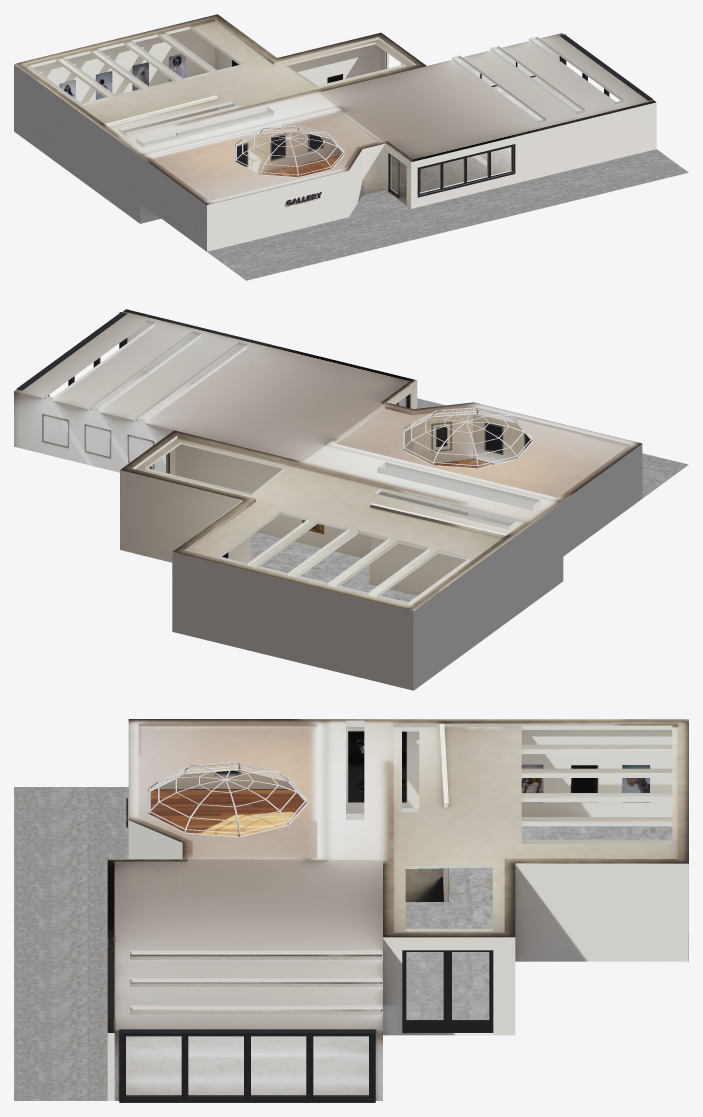
The model's file is art-gallery3.glb.
The picture shows the model from 3 angles, top to bottom: view 1: azimuth 30°, elevation 25°; view 2: azimuth 150°, elevation 25°; view 3: azimuth 270°, elevation 25°; orthographic projection. The views are drawn at different scales.
Visible parts, largest first — view 1: Paredes, ParedesPrincipais, Teto.001, Chao_fora, Janelas_entrada, Chao_entrada, Todos os quadros, Sphere.002, Chao_madeira, Janelas, Porta_entrada; view 2: Paredes, Teto.001, ParedesPrincipais, Chao_inferior, Sphere.002, Chao_fora, Todos os quadros, Janelas, Chao_entrada; view 3: Teto.001, ParedesPrincipais, Paredes, Chao_fora, Janelas, Chao_entrada, Chao_inferior, Janelas_andar_inferior, Chao_madeira, Sphere.002, Todos os quadros.
Part boxes in pixels (x1,y1,x2,y2): Paredes: [14, 21, 410, 251]; ParedesPrincipais: [318, 33, 656, 208]; Teto.001: [14, 14, 426, 204]; Chao_fora: [207, 149, 688, 280]; Janelas_entrada: [417, 144, 515, 197]; Chao_entrada: [338, 84, 581, 205]; Todos os quadros: [59, 54, 390, 202]; Sphere.002: [235, 125, 345, 177]; Chao_madeira: [261, 155, 340, 176]; Janelas: [559, 34, 652, 100]; Porta_entrada: [390, 155, 421, 198]; Paredes: [120, 380, 642, 690]; Teto.001: [120, 402, 641, 610]; ParedesPrincipais: [14, 309, 417, 472]; Chao_inferior: [251, 532, 417, 602]; Sphere.002: [402, 407, 533, 468]; Chao_fora: [396, 398, 688, 498]; Todos os quadros: [302, 394, 531, 534]; Janelas: [17, 312, 127, 396]; Chao_entrada: [93, 371, 193, 419]; Teto.001: [128, 719, 688, 937]; ParedesPrincipais: [107, 859, 382, 1100]; Paredes: [108, 723, 688, 1035]; Chao_fora: [14, 787, 128, 1100]; Janelas: [119, 1029, 375, 1102]; Chao_entrada: [126, 868, 443, 1094]; Chao_inferior: [405, 826, 672, 1019]; Janelas_andar_inferior: [402, 950, 493, 1032]; Chao_madeira: [150, 789, 305, 836]; Sphere.002: [148, 761, 308, 837]; Todos os quadros: [126, 731, 649, 818].
Bounding box in the file's own units: 62.24 × 11.03 × 56.35.
Materials: 31 (20 with a texture image).
